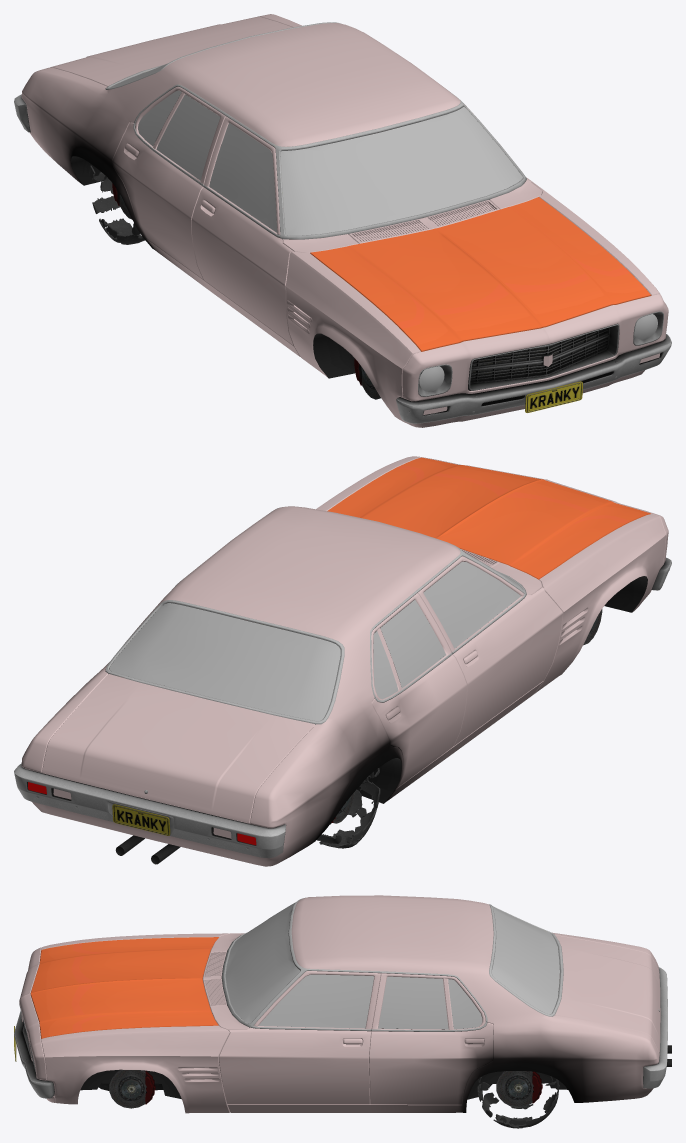
The model's file is 52_KRANKY.fbx.
3 views of the same model, one above another, from view 1: azimuth 30°, elevation 25°; view 2: azimuth 150°, elevation 25°; view 3: azimuth 270°, elevation 25° (orthographic). The views are drawn at different scales.
Visible parts, largest first — view 1: Body_Duco, Body_Glass, Body_Kits, Body_Chrome, Undercarriage, NumberPlate (1); view 2: Body_Duco, Body_Glass, Body_Kits, Body_Chrome, Undercarriage, NumberPlate; view 3: Body_Duco, Body_Glass, Body_Kits, Body_Chrome, Rotor (×2), Undercarriage.
Part boxes in pixels (x1,y1,x2,y2): Body_Duco: (21,14,668,427); Body_Glass: (110,64,657,391); Body_Kits: (310,197,651,351); Body_Chrome: (14,22,671,423); Undercarriage: (71,156,613,406); NumberPlate (1): (525,381,582,412); Body_Duco: (21,456,668,866); Body_Glass: (110,552,521,720); Body_Kits: (327,457,650,579); Body_Chrome: (14,507,671,858); Undercarriage: (109,576,647,864); NumberPlate: (112,804,170,835); Body_Duco: (19,895,660,1113); Body_Glass: (225,903,559,1029); Body_Kits: (30,937,218,1038); Body_Chrome: (14,897,667,1098); Rotor (×2): (109,1069,533,1108); Undercarriage: (23,1028,671,1106).
Size of what is drawn, in the model's own units: 1.91 by 1.25 by 4.79.
